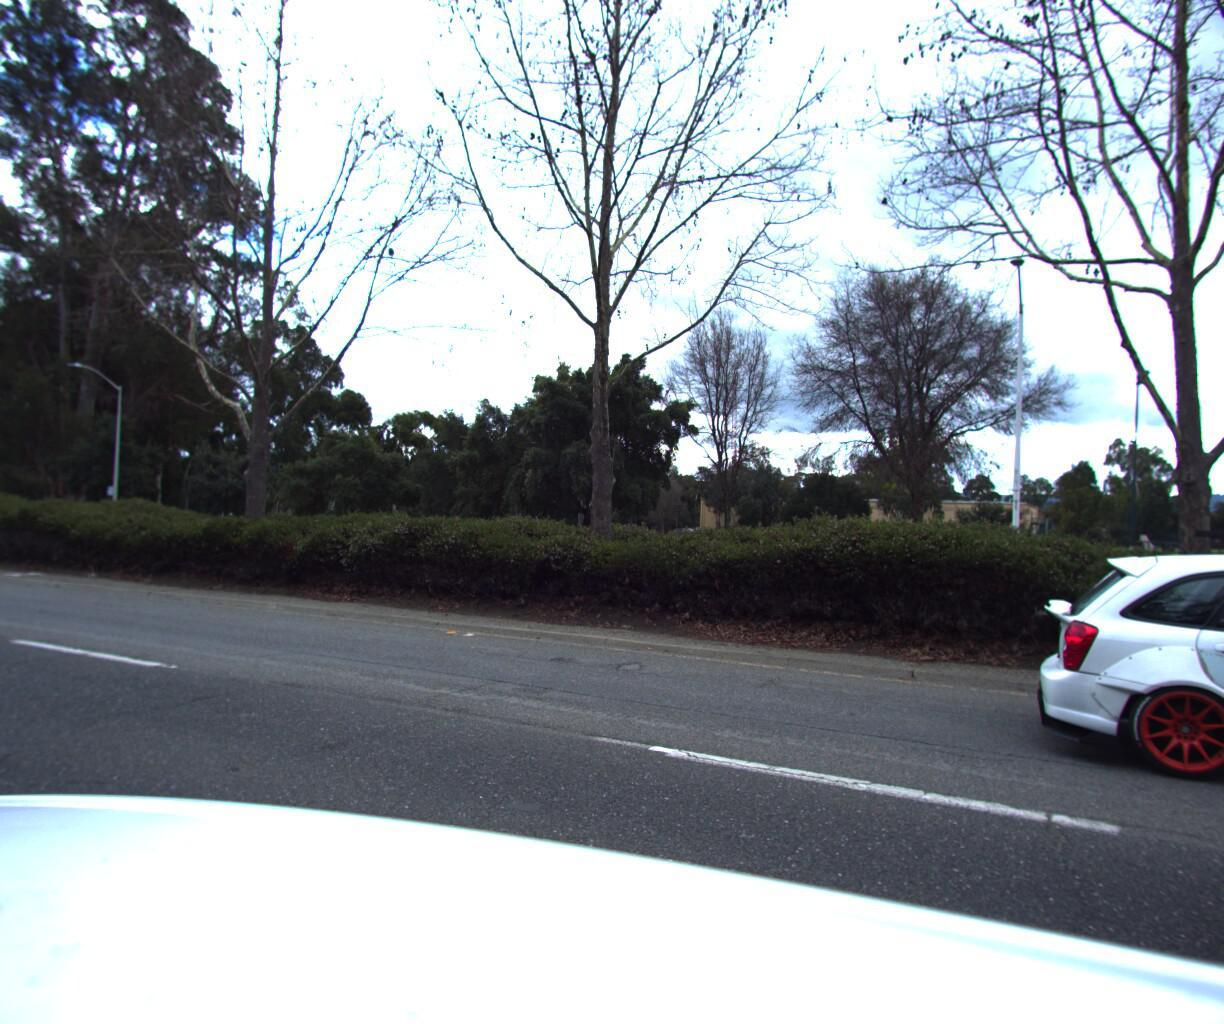car: (1003, 496, 1224, 908)
